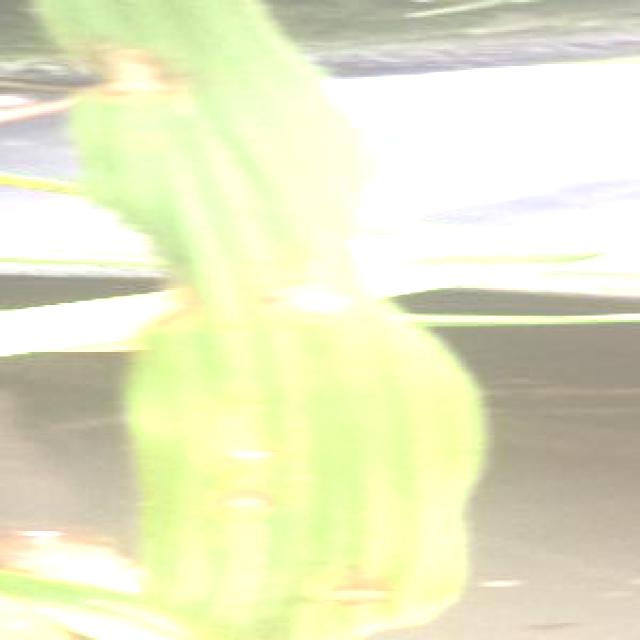Brown_Spot: (246, 238, 366, 339), (208, 408, 292, 544)
